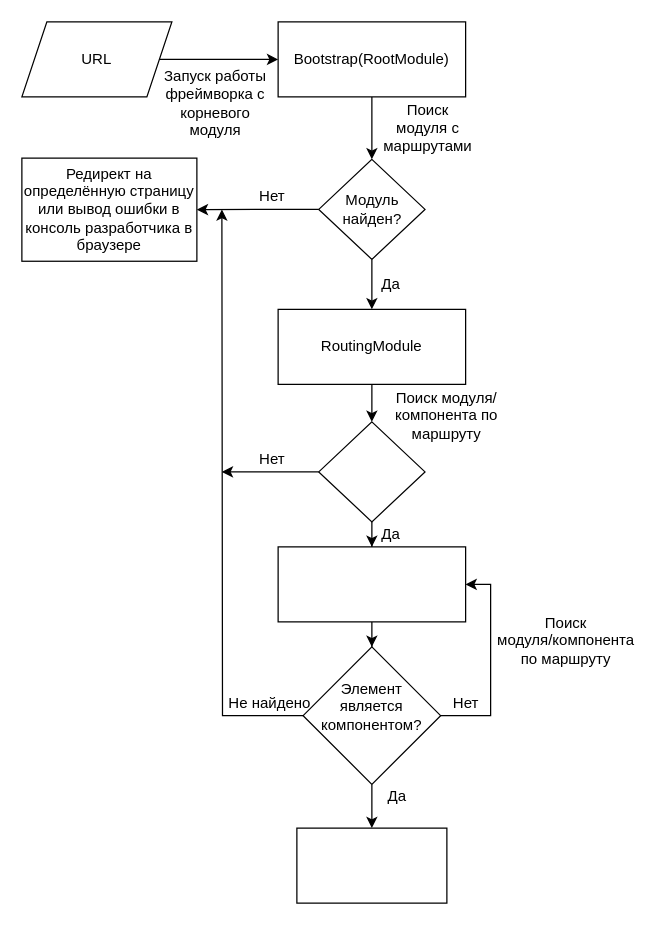
Image size: 663x925. Some labels were removed from this diagram. The shapes that lost their labels are listed below. From the top down, each one's centre as x and y in pixels, then its label:
the point at 371,471: Элемент найден?
the point at 371,584: Target
the point at 371,865: Запустить отрисовку найденного компонента
